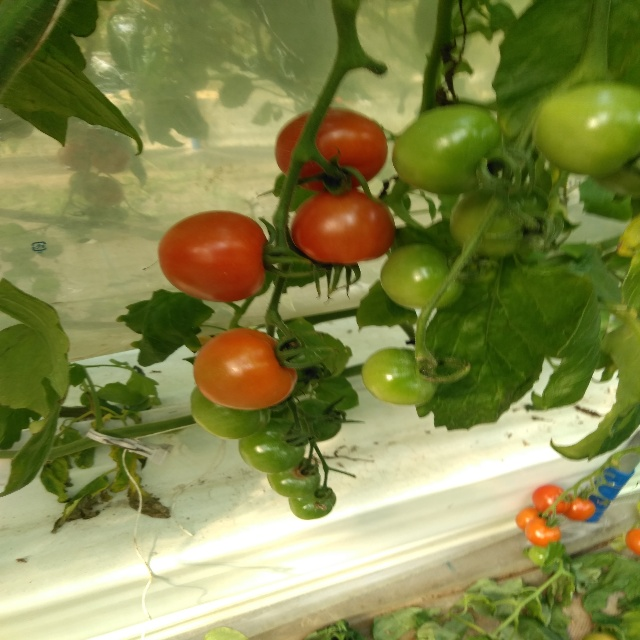l_fully_ripened: (158, 209, 269, 303), (275, 106, 389, 192), (291, 188, 397, 264), (532, 485, 572, 515), (561, 496, 595, 522)
l_green: (532, 82, 639, 176), (392, 105, 501, 195), (379, 243, 465, 309), (448, 187, 524, 259), (361, 348, 440, 406), (191, 385, 271, 439), (238, 416, 308, 473), (283, 399, 342, 442), (267, 457, 321, 498), (289, 485, 338, 520)
l_half_ripened: (194, 327, 297, 410), (524, 516, 561, 548), (515, 506, 550, 530)
